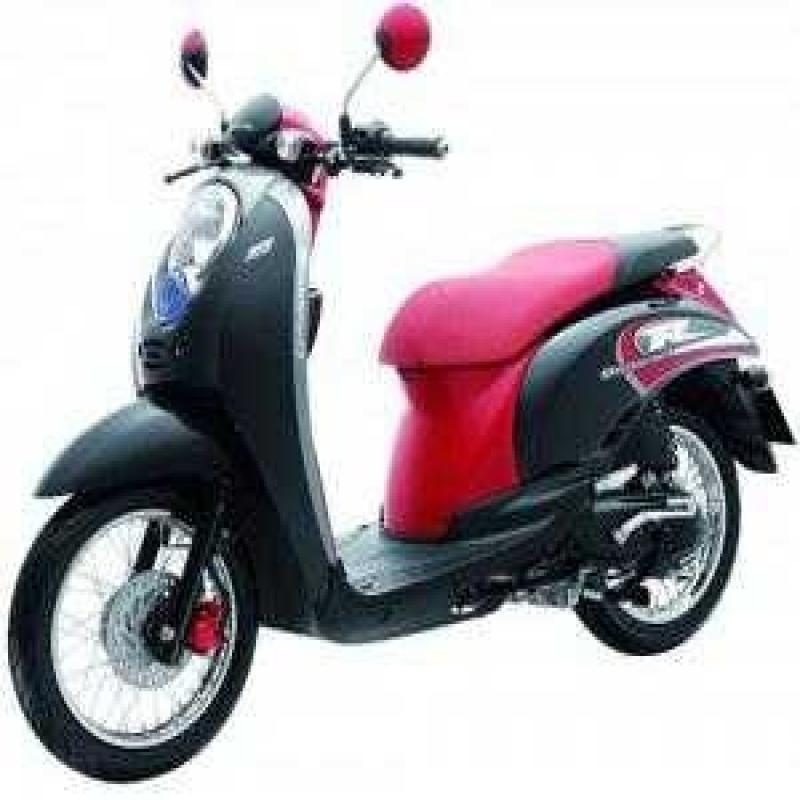bike: (27, 27, 786, 772)
